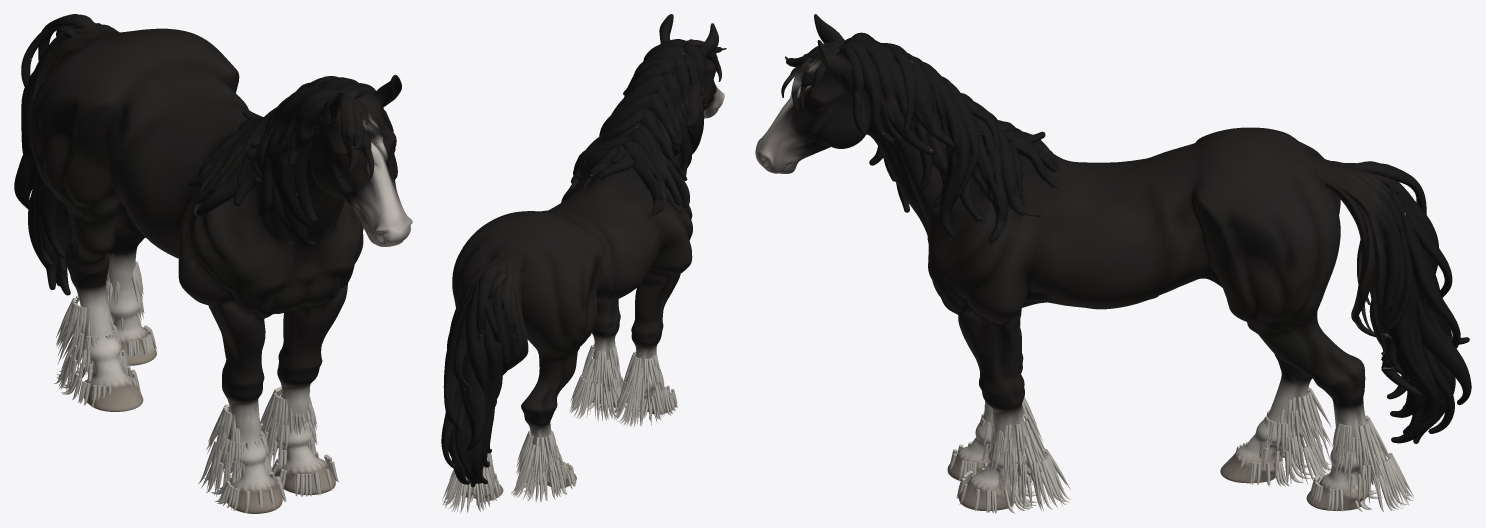
The model's file is Shire.glb.
3 renders of one model, left to right at view 1: azimuth 30°, elevation 25°; view 2: azimuth 150°, elevation 25°; view 3: azimuth 270°, elevation 25°, orthographic. The views are drawn at different scales.
Parts seen in each view (by area): view 1: Shire_LOW; view 2: Shire_LOW; view 3: Shire_LOW.
Boxes of the visible parts, x1,y1,x2,y2 form: Shire_LOW: (14,14,412,513); Shire_LOW: (441,14,726,513); Shire_LOW: (755,14,1471,513).
Bounding box in the file's own units: 1 × 2.5 × 3.52.
